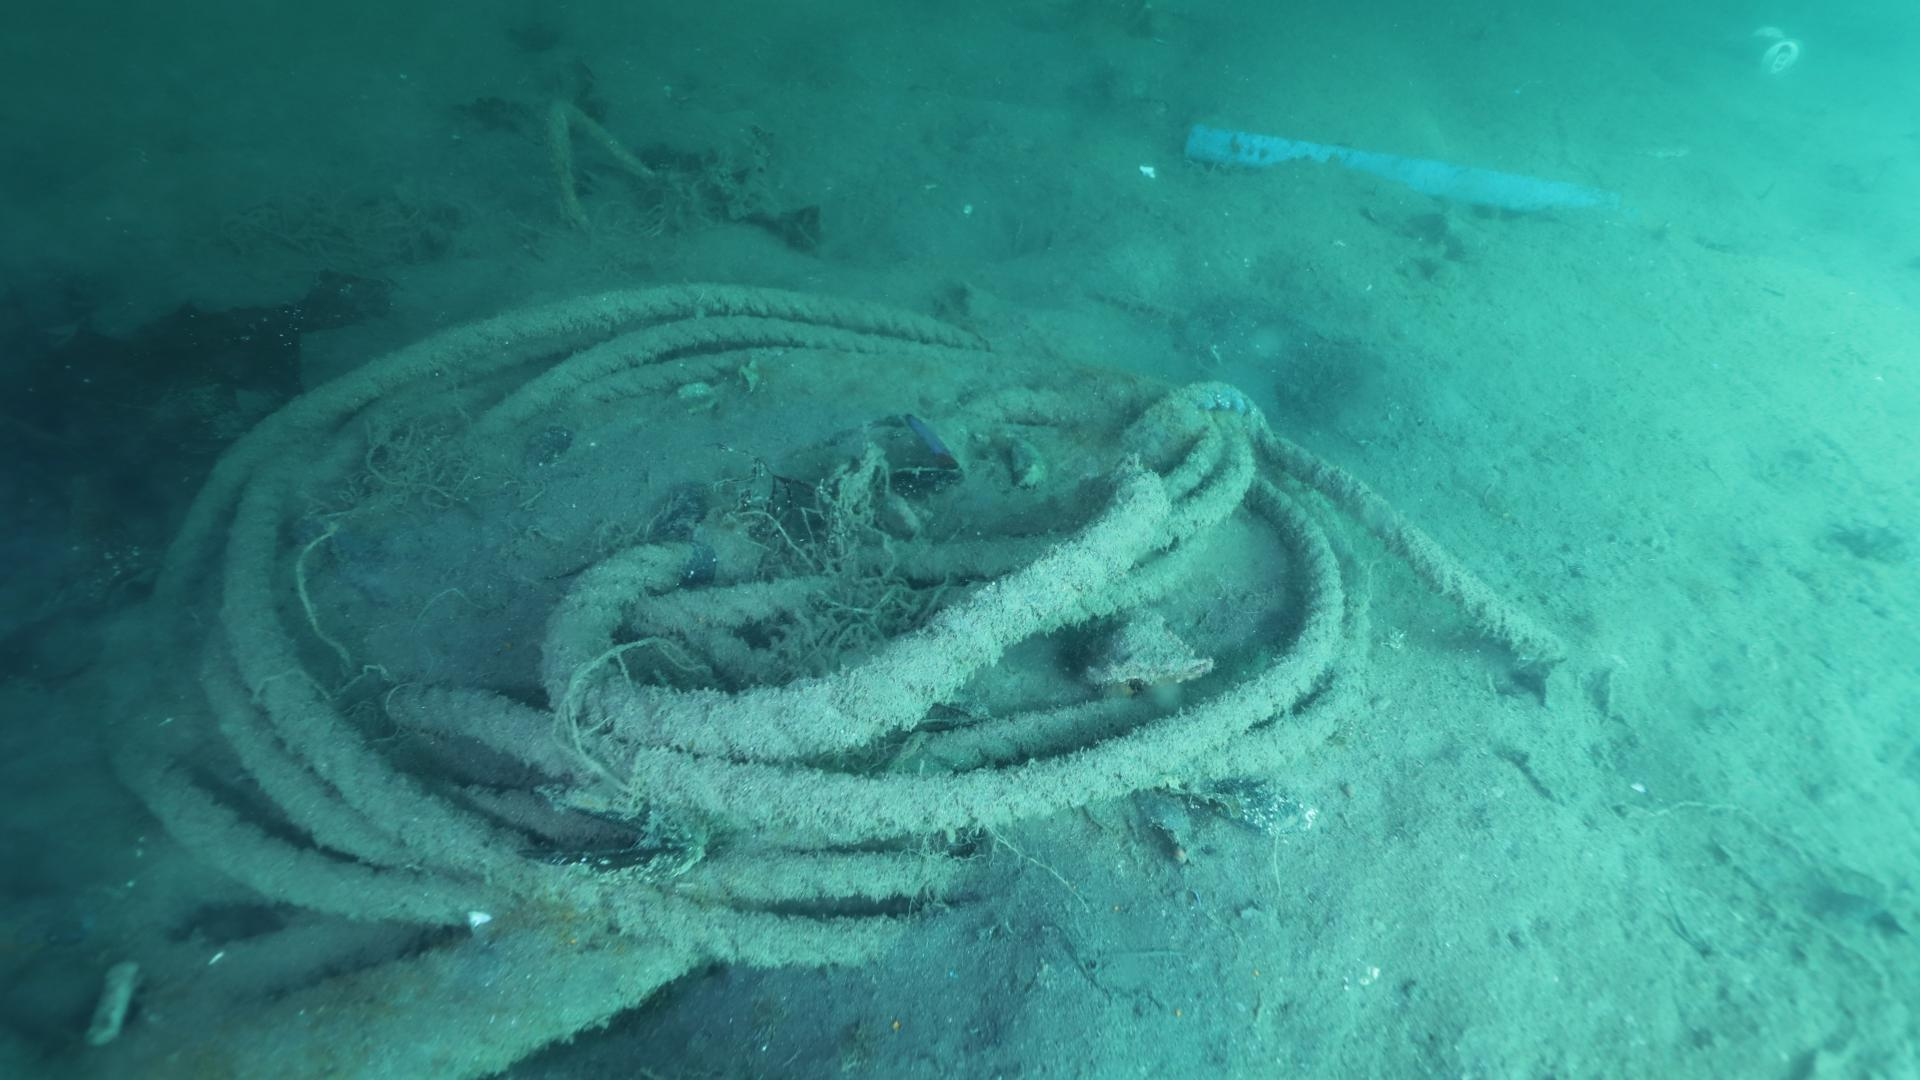bundle of ropes: (111, 282, 1567, 967)
